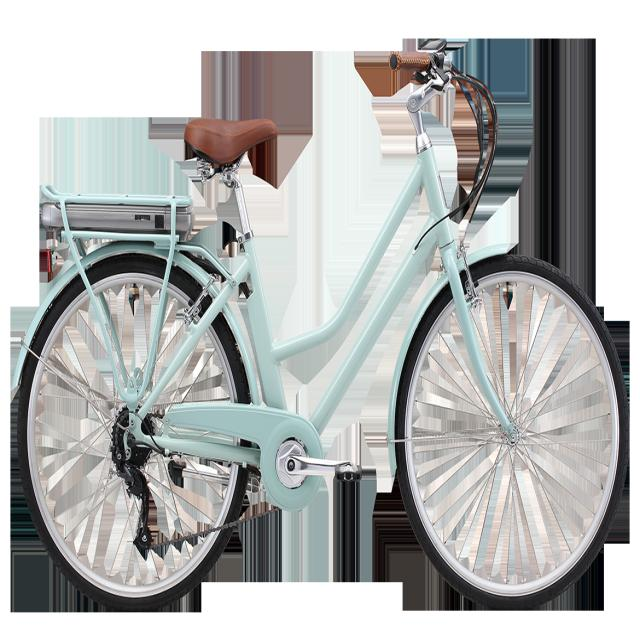urban-bike: (11, 39, 632, 617)
